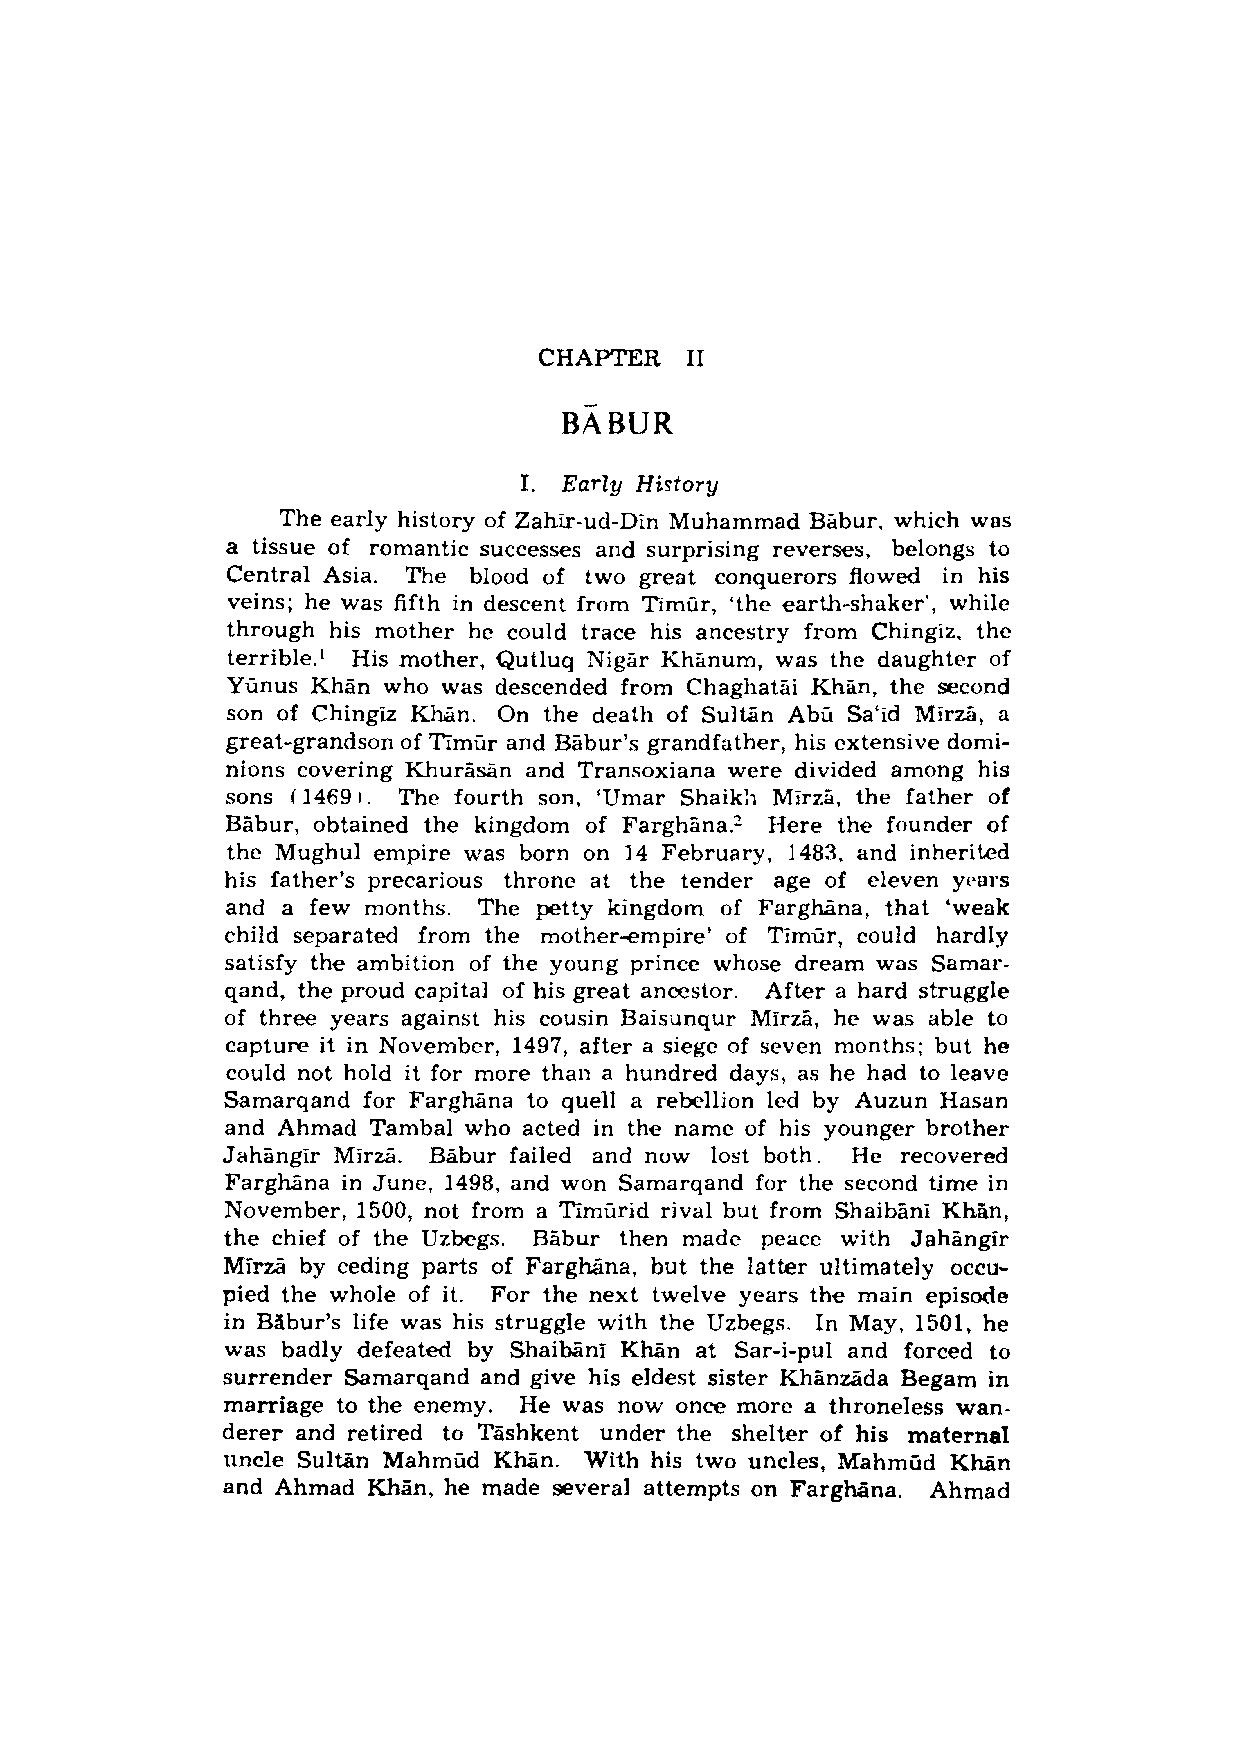chapter: (534, 345, 703, 437), (517, 470, 717, 499)
content: (220, 505, 1013, 1504)
